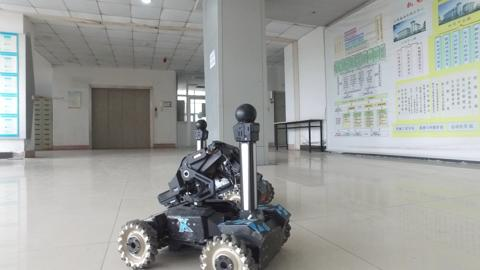chariot: (118, 96, 290, 270)
